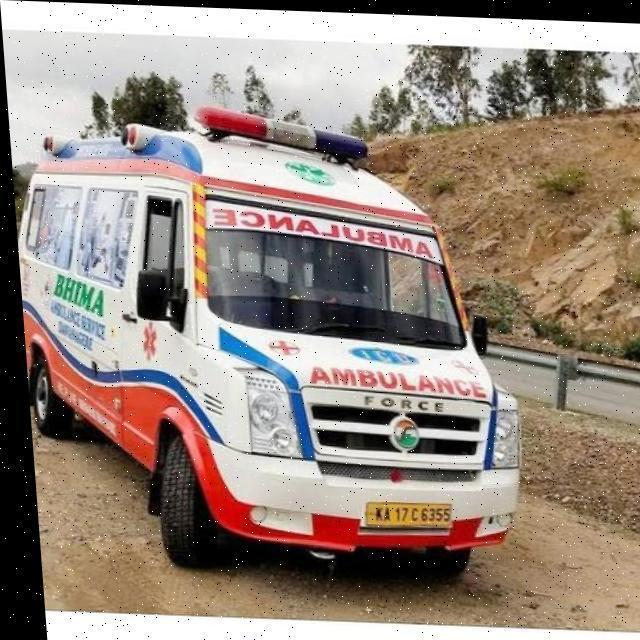Ambulance: (6, 96, 528, 582), (18, 310, 640, 629)
